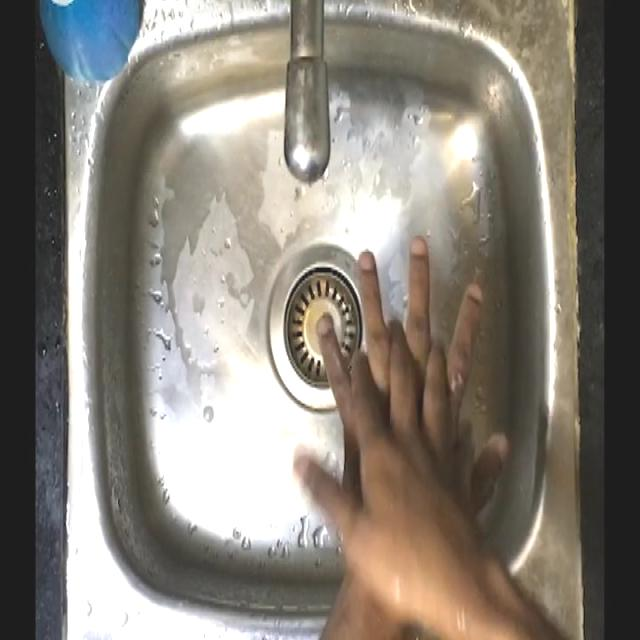step_2: (294, 222, 516, 565)
